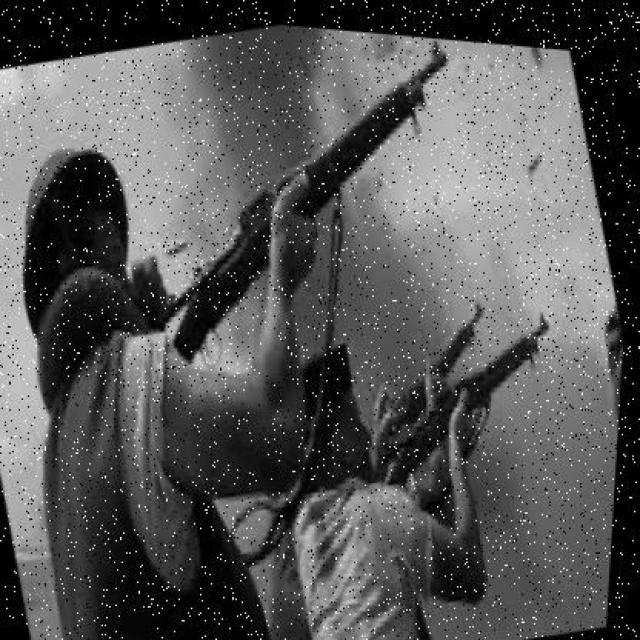weapon: (154, 52, 452, 365), (381, 319, 551, 486), (365, 304, 483, 482)
